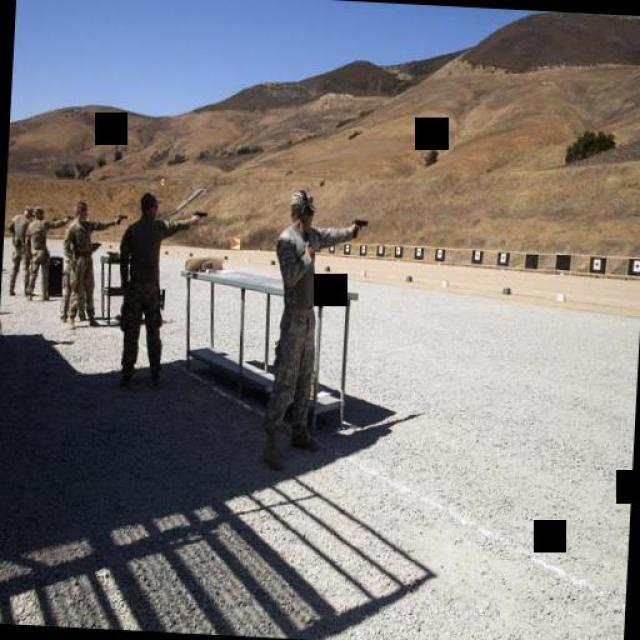gun: (350, 212, 370, 236), (190, 205, 210, 225), (115, 208, 129, 224), (62, 212, 74, 226)
